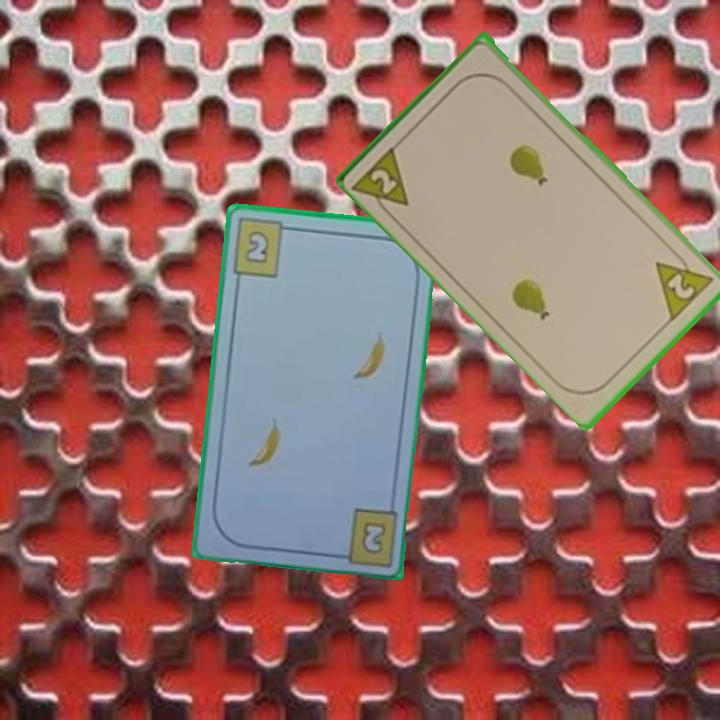2b: (228, 215, 298, 281), (358, 517, 389, 557)
2p: (652, 245, 717, 322), (367, 165, 401, 198)
